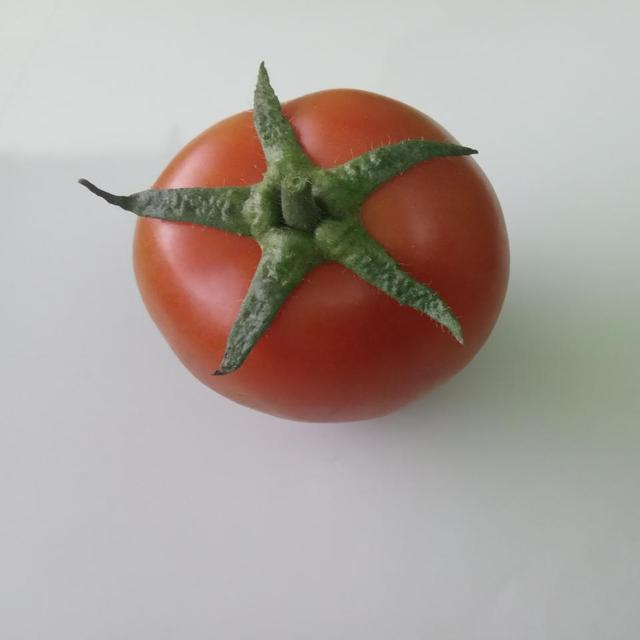Healthy Fruit: (53, 40, 344, 284)
